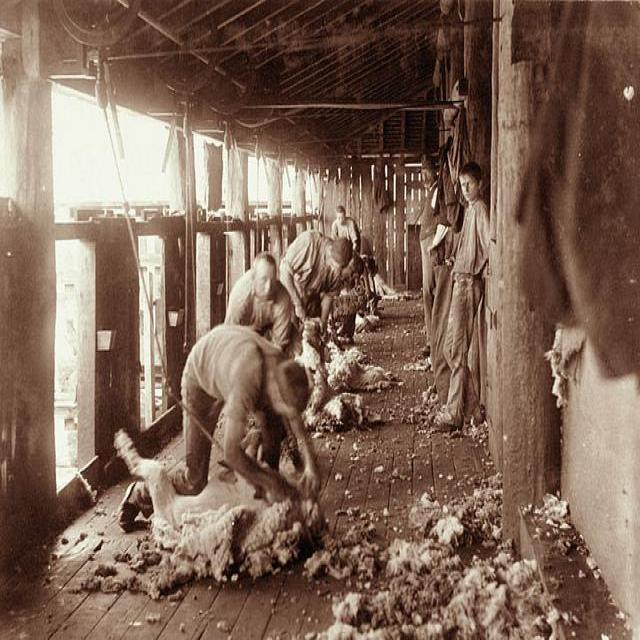Sheep: (116, 431, 326, 562), (304, 314, 365, 428), (324, 340, 391, 393), (326, 278, 367, 346)
